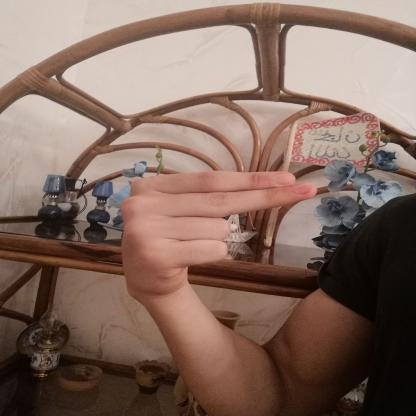AYN: (104, 162, 330, 303)
